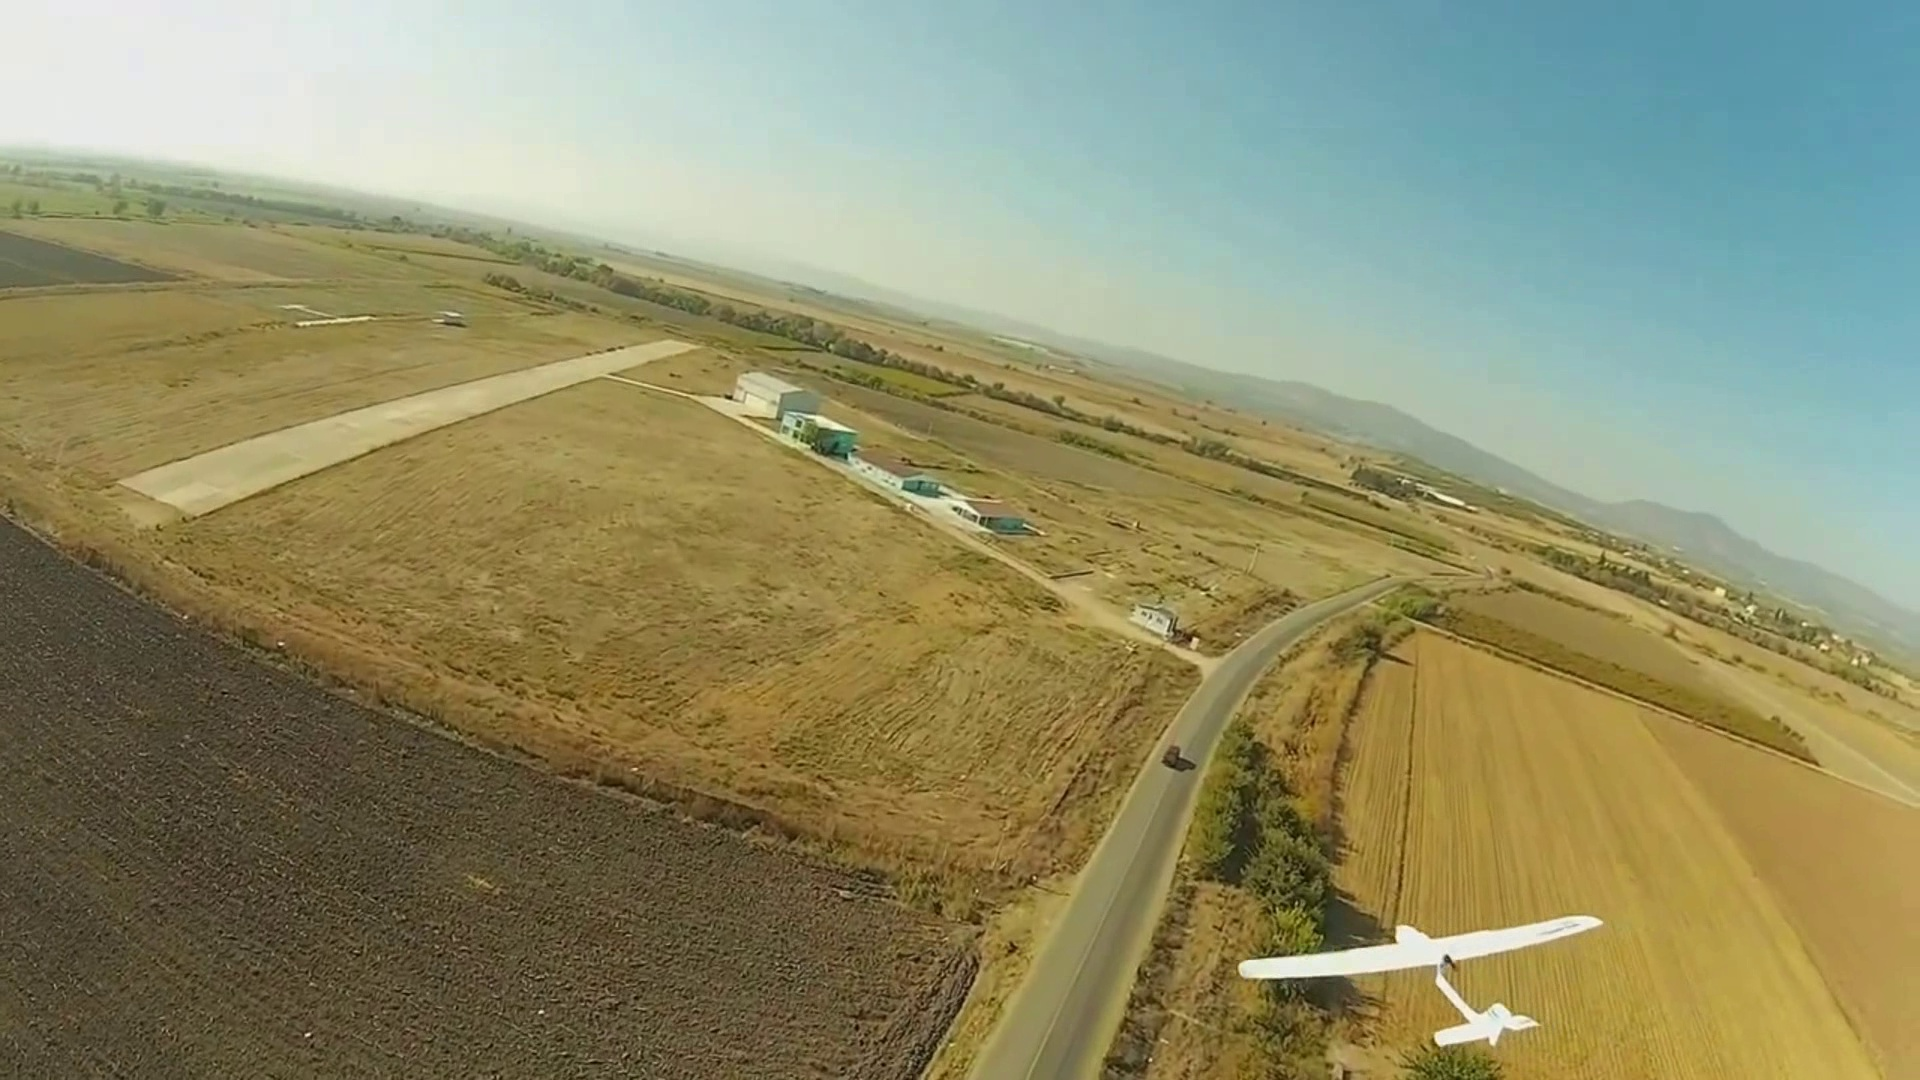airplane: (1238, 914, 1603, 1065)
